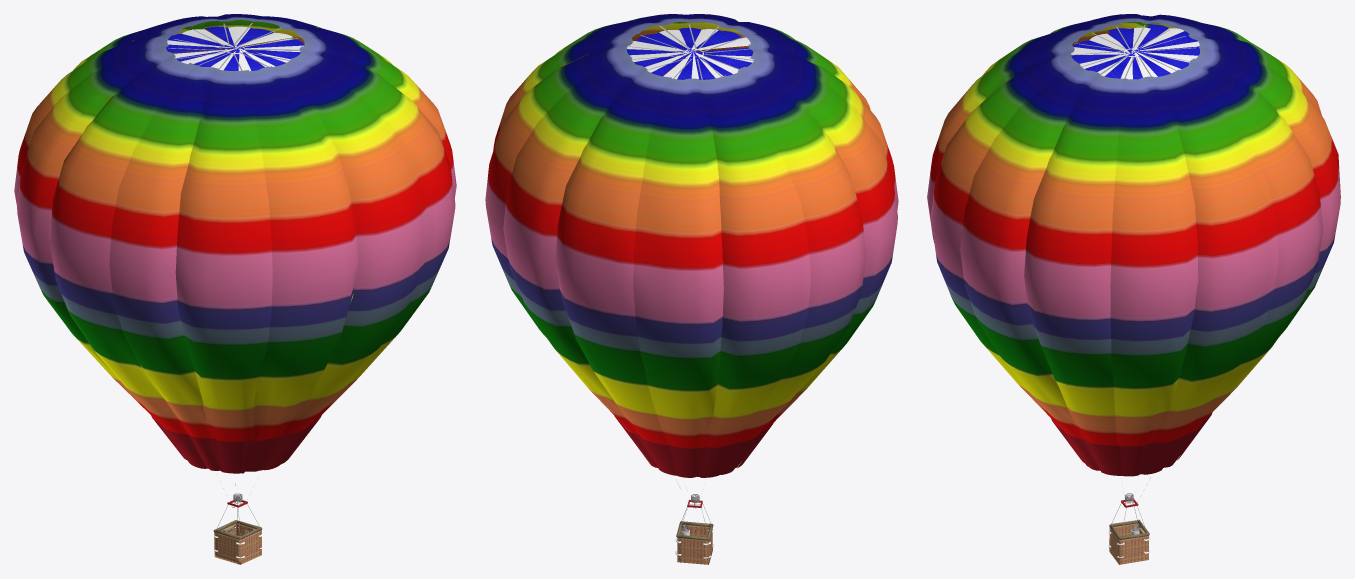
The model's file is balao.gltf.
The picture shows the model from 3 angles, left to right: view 1: azimuth 30°, elevation 25°; view 2: azimuth 150°, elevation 25°; view 3: azimuth 270°, elevation 25°; orthographic projection.
Parts seen in each view (by area): view 1: Object_9; view 2: Object_9; view 3: Object_9.
Boxes of the visible parts, bbox=[...] form: Object_9: bbox=[14, 14, 456, 564]; Object_9: bbox=[485, 14, 898, 564]; Object_9: bbox=[927, 14, 1340, 564].
Size of the model in its own units: 1.01 by 1.32 by 0.9737.
Materials: 33 (17 with a texture image).
